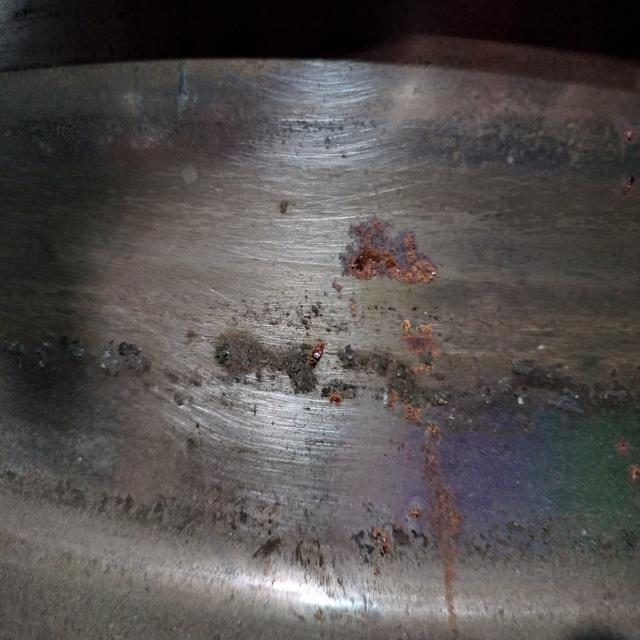Rollerpile: (420, 111, 640, 175)
